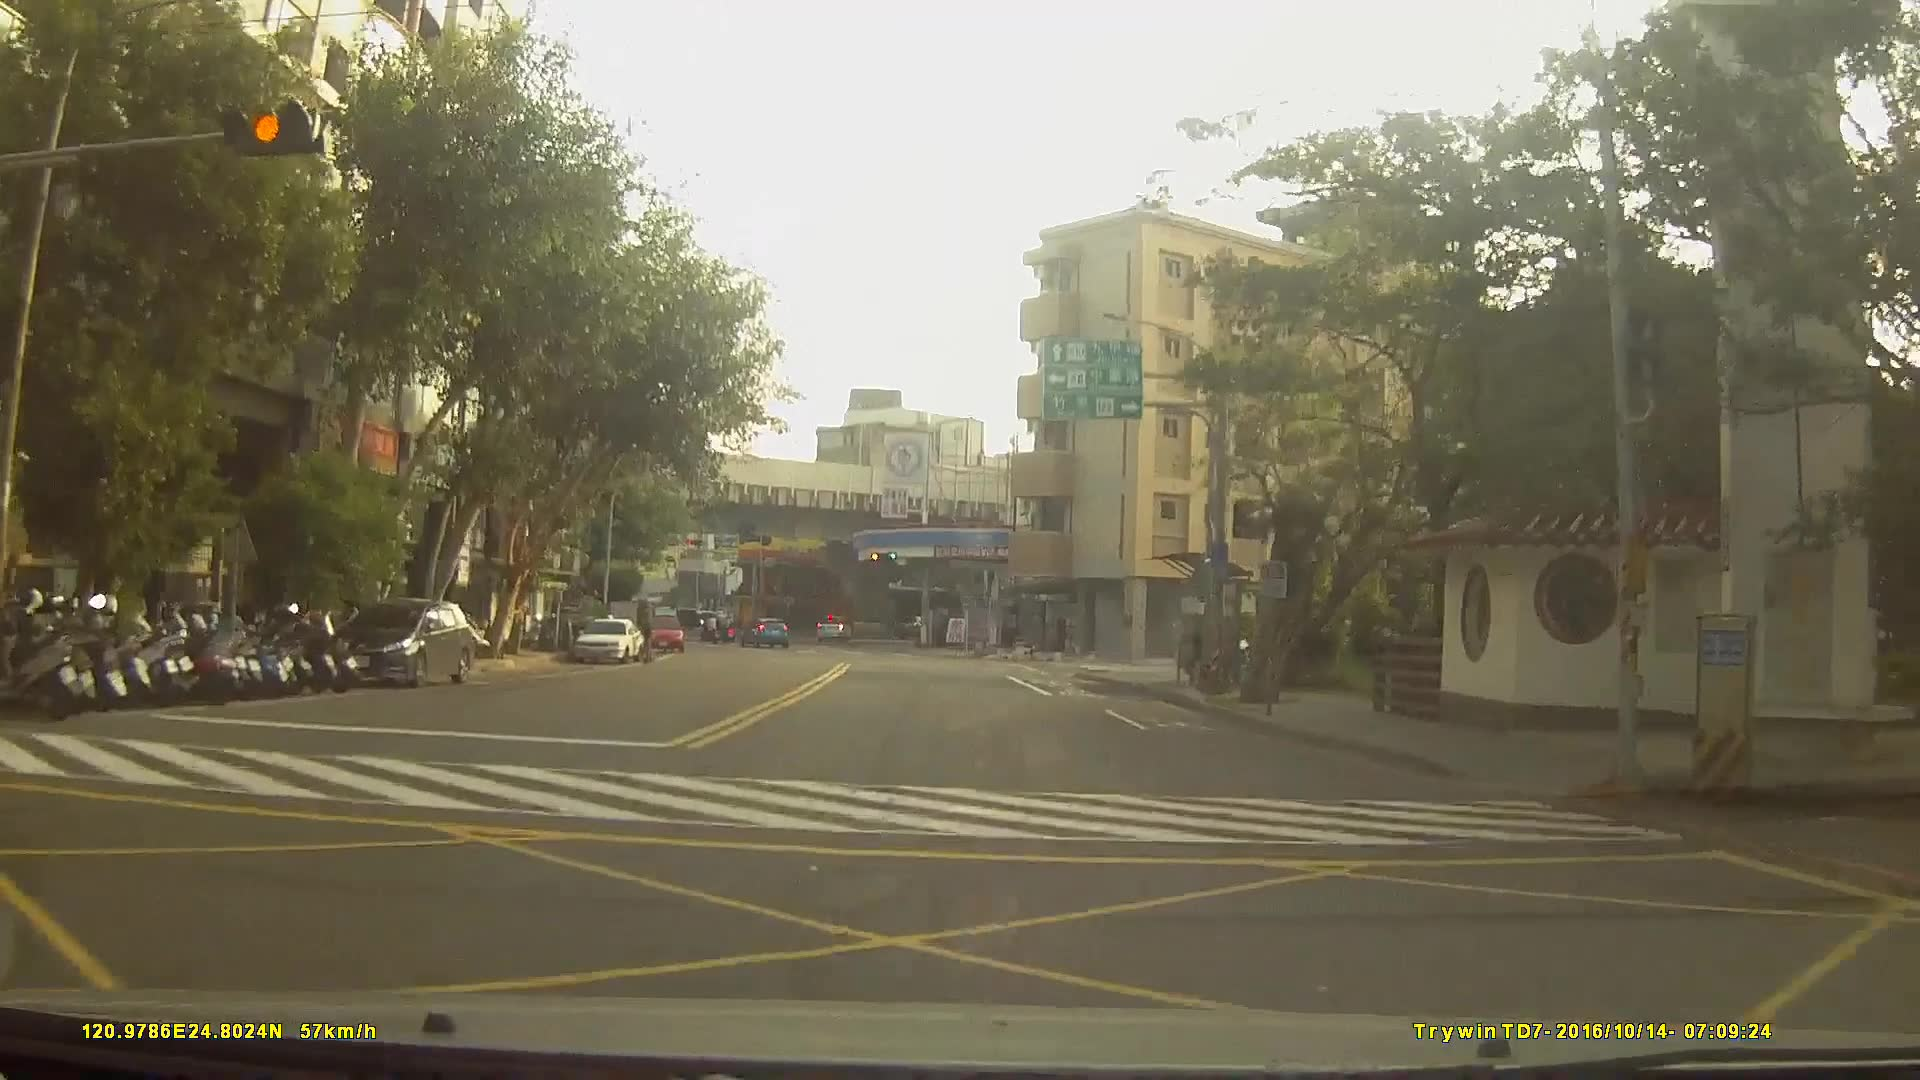rider: (699, 613, 723, 647)
vehicle: (328, 596, 477, 690), (570, 615, 644, 664), (643, 613, 686, 653), (740, 616, 788, 648), (815, 617, 854, 645)
